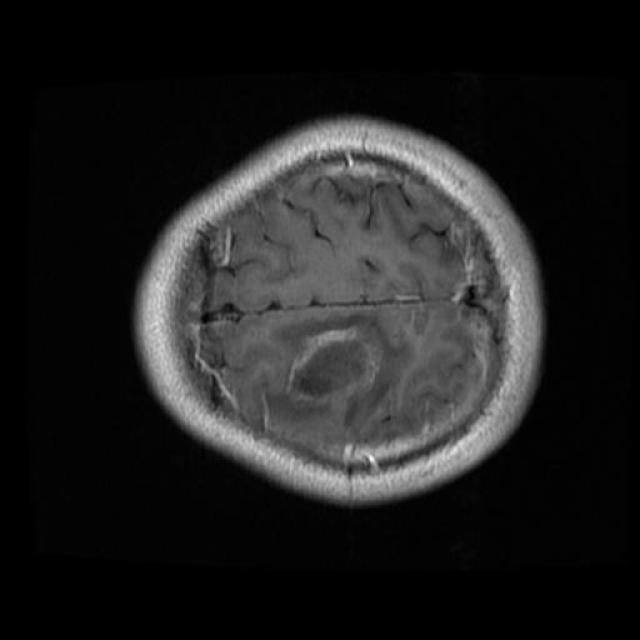Glioma: (287, 325, 381, 401)
